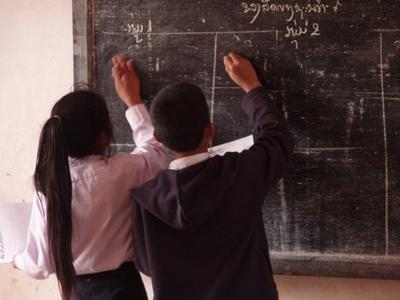person: (129, 54, 295, 300)
